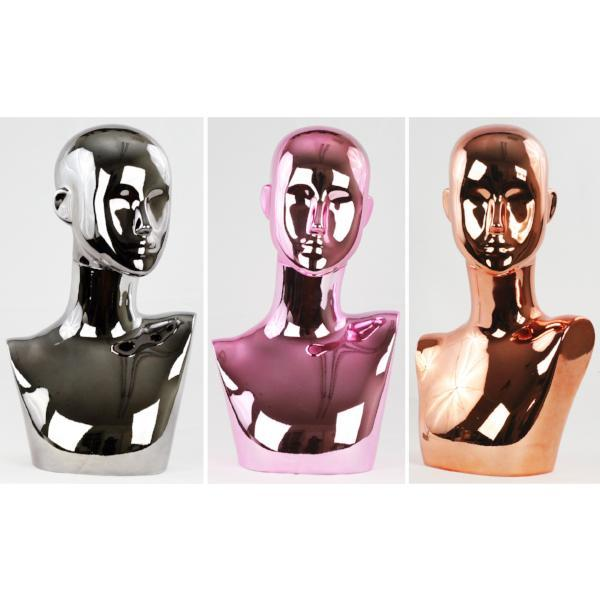person-like: (207, 120, 403, 480), (6, 117, 201, 478), (412, 118, 599, 480)
